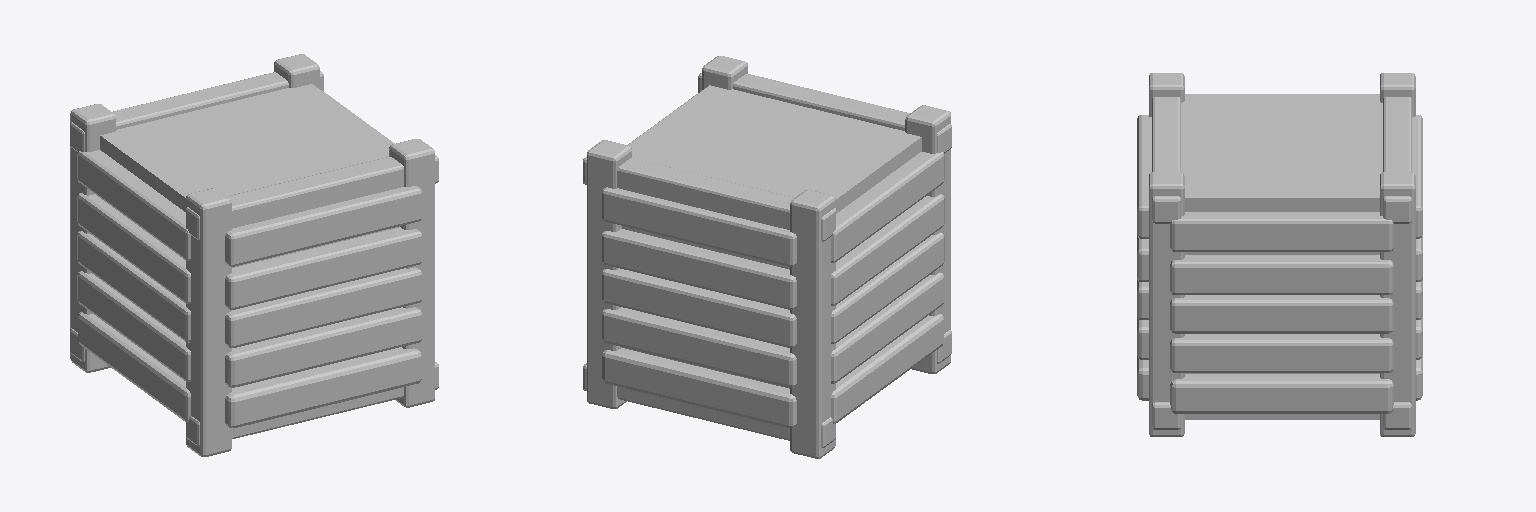
Rendered from SM_Crate.obj.
3 renders of one model, left to right at view 1: azimuth 30°, elevation 25°; view 2: azimuth 150°, elevation 25°; view 3: azimuth 270°, elevation 25°, orthographic.
Parts seen in each view (by area): view 1: pCube20; view 2: pCube20; view 3: pCube20.
Boxes of the visible parts, box(x1,y1,x2,y2) form: pCube20: box(70, 54, 438, 456); pCube20: box(583, 56, 951, 458); pCube20: box(1137, 73, 1422, 436).
Bounding box in the file's own units: 3.43 × 3.35 × 3.43.